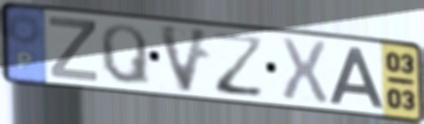A: (327, 44, 387, 111)
Q: (97, 22, 154, 89)
V: (155, 21, 214, 96)
X: (277, 35, 331, 105)
Z: (209, 30, 267, 101), (47, 14, 101, 84)
